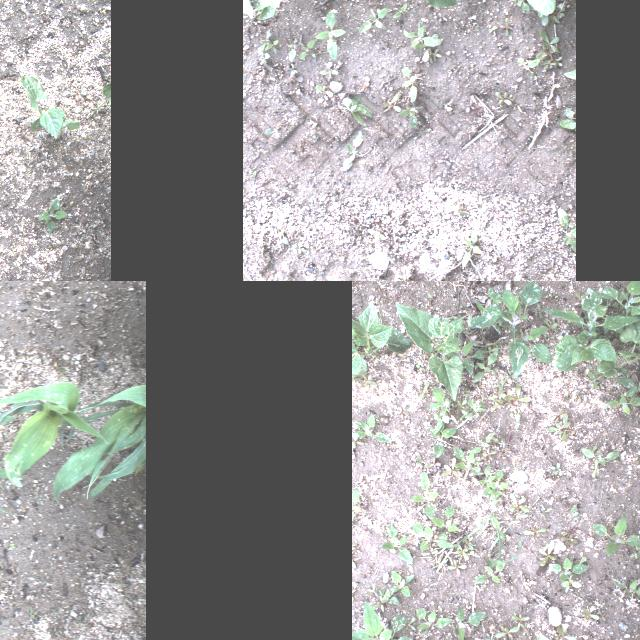crop: (0, 381, 109, 486), (53, 384, 145, 504), (394, 302, 486, 401), (467, 282, 551, 376), (544, 286, 638, 370), (351, 300, 409, 374), (21, 72, 84, 138), (587, 317, 640, 391), (595, 281, 640, 333)
weed: (416, 499, 494, 585), (487, 496, 539, 566), (455, 233, 526, 281), (351, 602, 427, 640), (592, 515, 640, 556), (400, 23, 442, 65), (314, 9, 348, 57), (36, 195, 70, 238), (410, 470, 438, 520), (379, 522, 411, 564), (338, 91, 372, 129), (412, 523, 454, 551), (414, 606, 452, 636), (602, 385, 640, 415), (459, 224, 486, 266), (352, 414, 392, 442), (453, 605, 484, 640), (428, 419, 456, 457), (396, 84, 419, 130), (431, 505, 459, 541), (341, 128, 362, 174), (359, 2, 389, 34), (554, 207, 574, 253), (550, 556, 588, 580), (256, 27, 280, 62), (472, 350, 498, 382), (473, 559, 507, 583), (430, 384, 450, 424), (452, 446, 480, 474), (400, 60, 424, 90), (487, 470, 508, 504), (581, 447, 621, 463), (390, 570, 414, 596), (614, 576, 640, 599), (540, 29, 564, 53), (477, 465, 495, 497), (468, 432, 494, 454), (557, 102, 575, 132), (538, 538, 556, 568), (312, 82, 336, 104), (317, 58, 343, 76), (296, 36, 316, 59), (286, 32, 300, 64), (463, 398, 485, 418), (503, 386, 532, 400), (541, 54, 561, 74), (508, 492, 528, 512), (378, 584, 398, 604), (516, 56, 544, 70), (351, 486, 361, 522), (561, 573, 581, 591), (494, 625, 518, 639), (488, 431, 509, 447), (494, 88, 512, 106), (440, 457, 458, 475), (556, 623, 575, 640), (446, 559, 464, 575), (582, 605, 598, 621), (548, 408, 564, 424), (453, 396, 469, 412), (512, 613, 530, 627), (358, 372, 376, 386), (370, 595, 388, 609), (546, 422, 570, 432), (522, 526, 546, 536), (454, 543, 468, 559), (416, 452, 430, 468), (492, 388, 502, 410), (485, 336, 507, 346), (560, 532, 578, 544), (420, 546, 438, 558), (479, 447, 496, 459), (418, 381, 428, 401), (539, 318, 557, 329), (365, 580, 377, 596), (585, 444, 597, 460), (428, 456, 440, 472), (631, 536, 640, 557), (568, 502, 578, 520), (590, 459, 600, 477), (561, 412, 567, 442), (394, 406, 408, 418), (394, 274, 417, 281), (492, 378, 506, 389), (540, 503, 552, 515), (536, 302, 544, 320), (352, 436, 364, 448), (480, 345, 498, 353), (550, 461, 560, 475), (486, 395, 502, 403), (519, 623, 529, 635), (574, 556, 586, 566), (514, 412, 520, 428), (351, 541, 359, 553), (484, 633, 496, 640), (7, 542, 15, 550), (414, 362, 422, 370), (563, 390, 569, 400), (352, 375, 361, 381), (351, 558, 355, 568), (600, 601, 606, 607), (509, 412, 513, 416)
